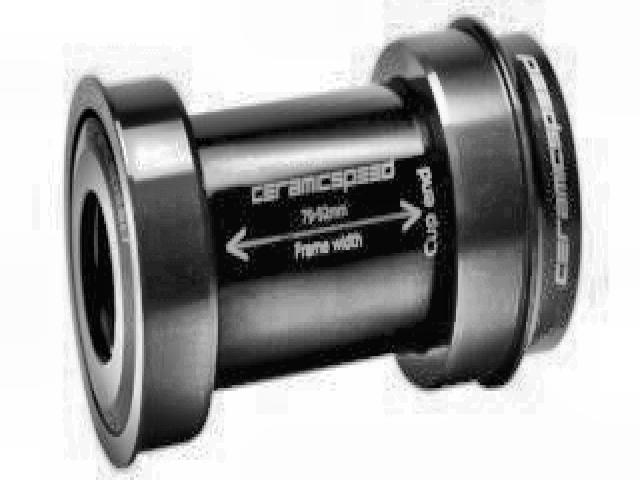bottom_bracket: (61, 12, 585, 471)
